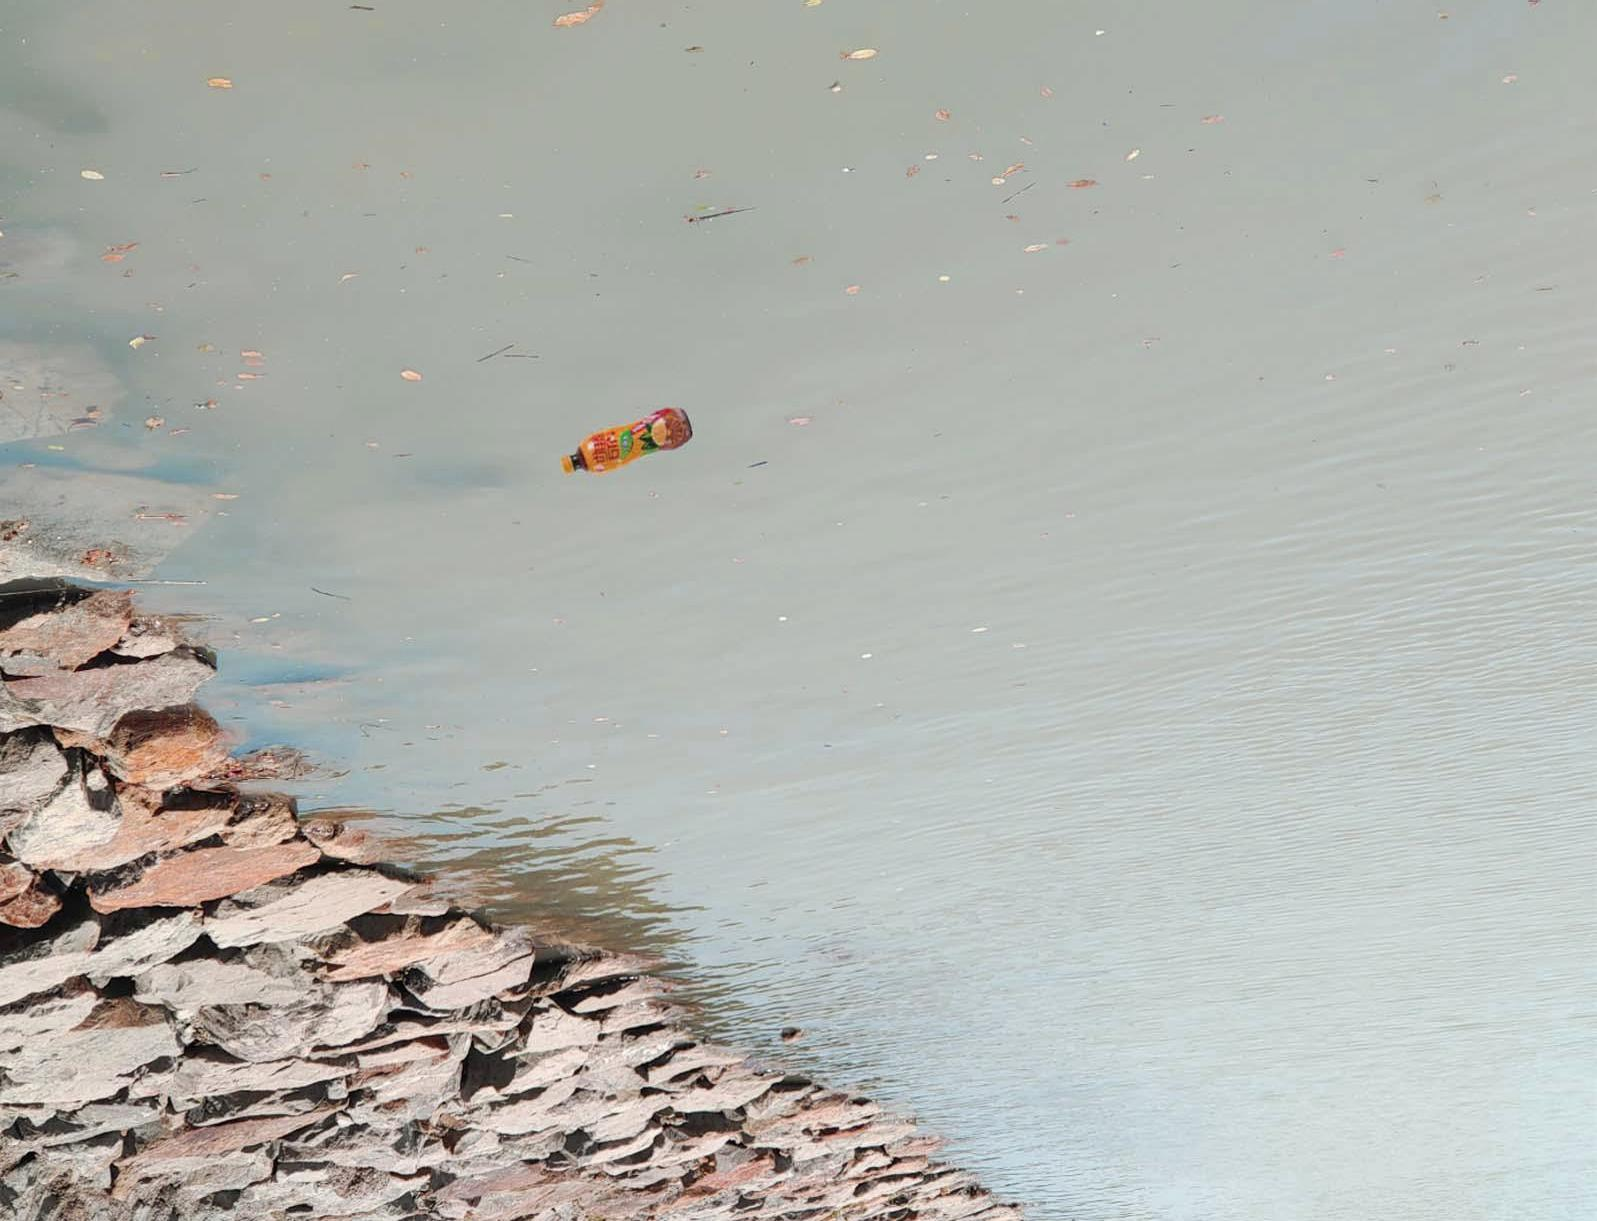Plastic: (555, 401, 697, 482)
